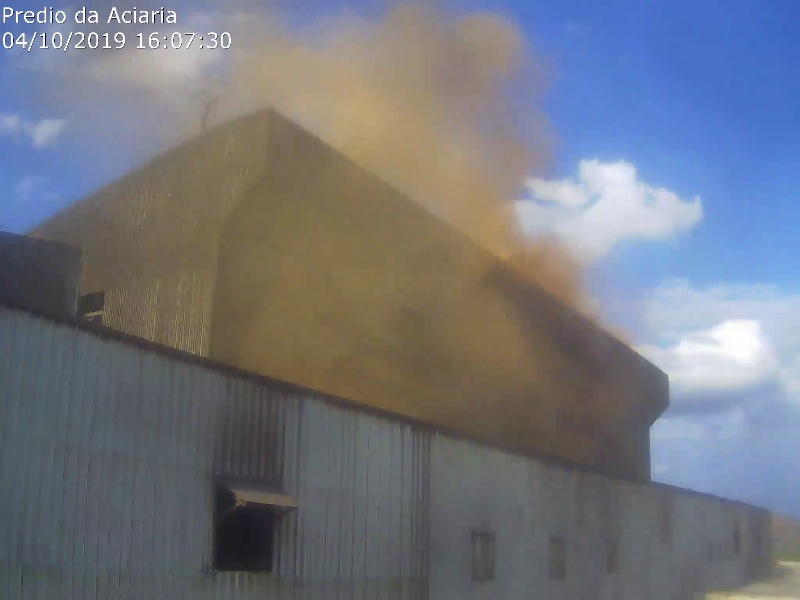pessimo: (217, 14, 634, 450)
